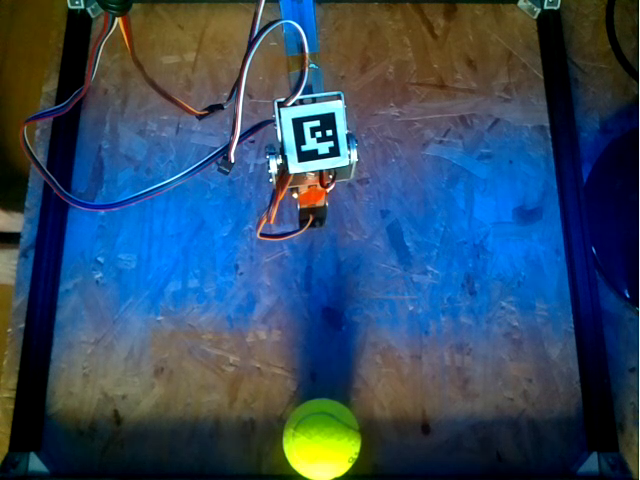tennis_ball: (281, 397, 363, 479)
